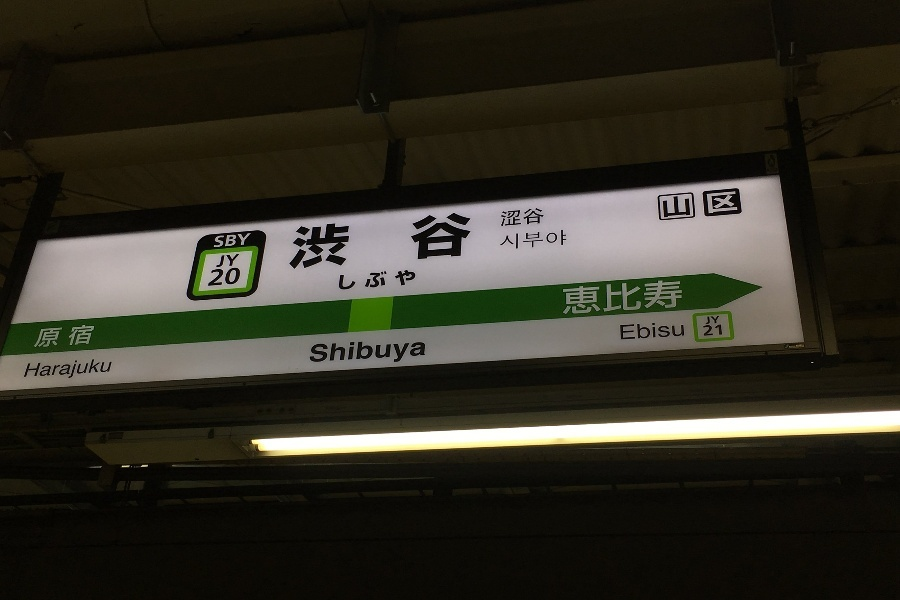text: (305, 212, 320, 270), (321, 212, 336, 270), (337, 212, 352, 270), (353, 212, 368, 270), (369, 212, 384, 270), (385, 212, 400, 270), (401, 212, 416, 270), (417, 212, 432, 270), (433, 212, 448, 270), (449, 212, 464, 270), (294, 212, 304, 270), (577, 279, 592, 315), (593, 279, 608, 315), (609, 279, 624, 315), (625, 279, 640, 315), (641, 279, 656, 315), (657, 279, 672, 315), (563, 279, 576, 315), (465, 212, 473, 270), (321, 338, 336, 366), (337, 338, 352, 366), (353, 338, 368, 366), (369, 338, 384, 366), (385, 338, 400, 366), (401, 338, 416, 366), (673, 192, 688, 218), (689, 192, 704, 218), (705, 192, 720, 218), (721, 192, 736, 218), (673, 279, 683, 315), (49, 324, 64, 348), (65, 324, 80, 348), (81, 324, 96, 348), (33, 358, 48, 380), (49, 358, 64, 380), (65, 358, 80, 380), (81, 358, 96, 380), (97, 358, 112, 380), (225, 267, 241, 287), (353, 269, 368, 290), (369, 269, 384, 290), (385, 269, 400, 290), (401, 269, 416, 290), (513, 230, 528, 251), (529, 230, 544, 251), (545, 230, 560, 251), (529, 208, 545, 227), (625, 321, 640, 341), (641, 321, 656, 341), (657, 321, 672, 341), (513, 208, 528, 227), (340, 269, 352, 290), (311, 338, 320, 366), (673, 321, 685, 341), (225, 233, 240, 249), (212, 267, 224, 287), (663, 192, 672, 218), (501, 230, 512, 251), (417, 338, 425, 366), (39, 324, 48, 348), (225, 255, 240, 268), (502, 208, 512, 227), (705, 325, 720, 336), (241, 233, 251, 249), (215, 233, 224, 249), (706, 316, 720, 325), (561, 230, 567, 251), (28, 358, 32, 380), (620, 321, 624, 341), (218, 255, 224, 268), (737, 192, 738, 218), (113, 358, 114, 380), (703, 325, 704, 336), (721, 325, 722, 336)
